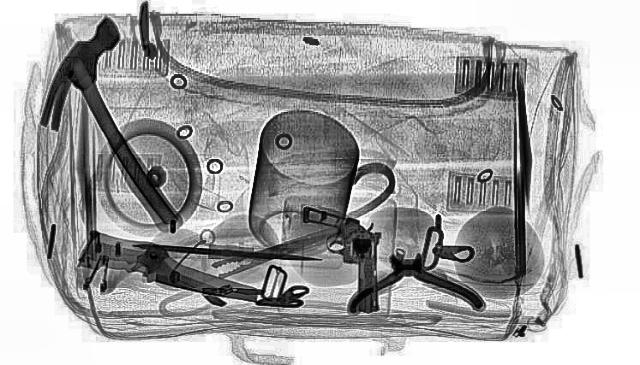Gun: (301, 206, 377, 312)
Pliers: (347, 252, 481, 310)
